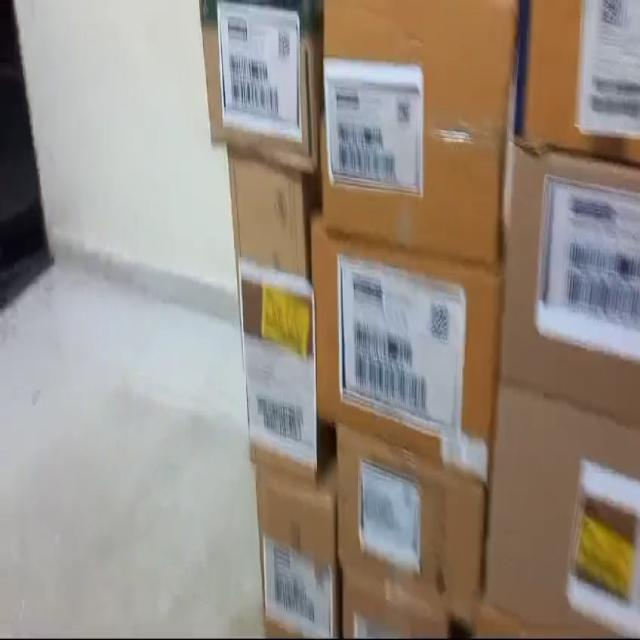BoxFace: (316, 0, 518, 266), (309, 222, 496, 472), (218, 147, 330, 493), (331, 424, 488, 624), (189, 0, 323, 173), (243, 455, 345, 640)
